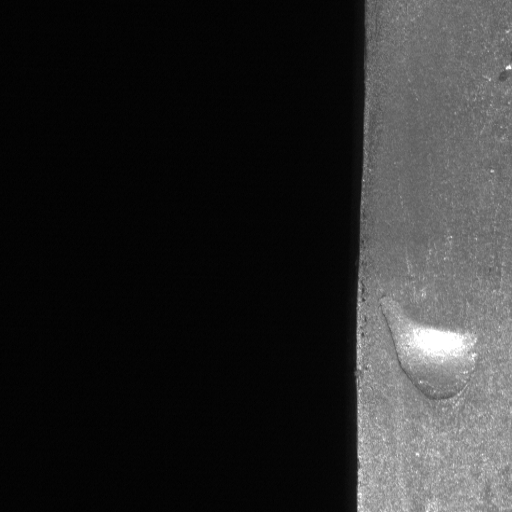aokeng: (377, 294, 478, 401)
